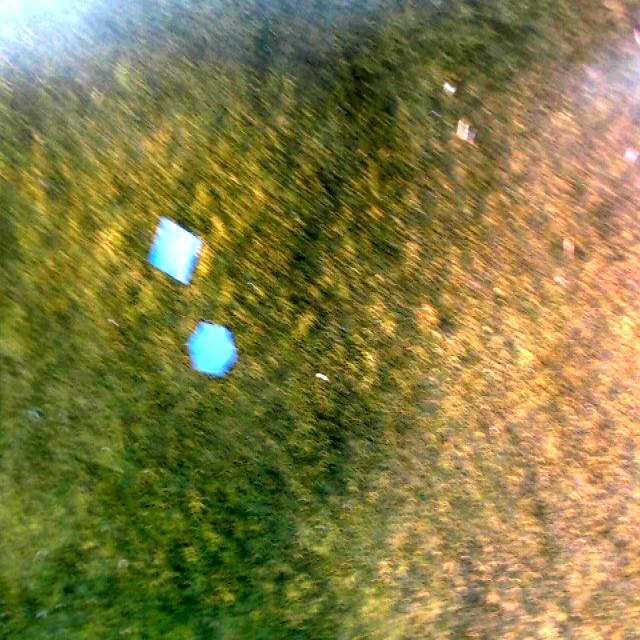blue_hexagon: (190, 323, 236, 376)
blue_square: (148, 216, 202, 282)
